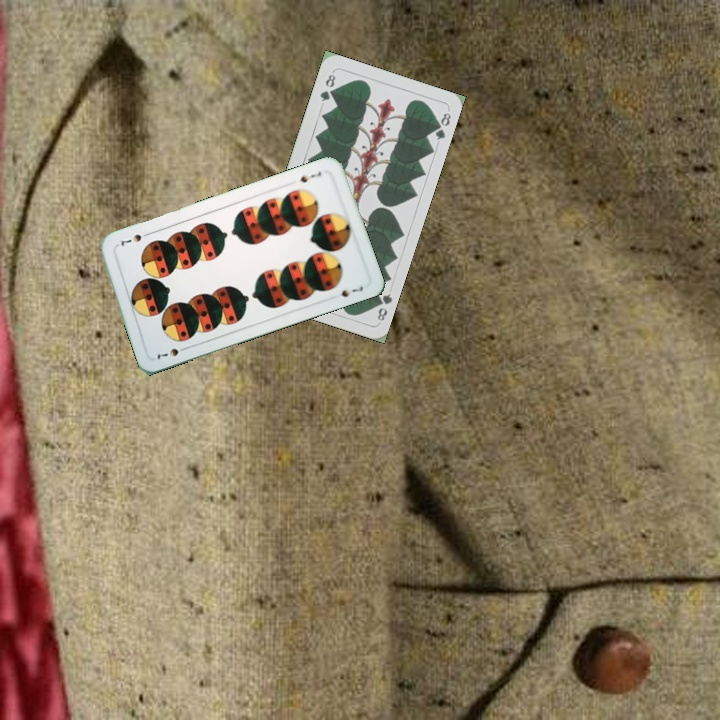G8: (371, 289, 395, 323), (316, 70, 338, 104)
S7: (151, 343, 191, 362), (296, 168, 324, 185)
